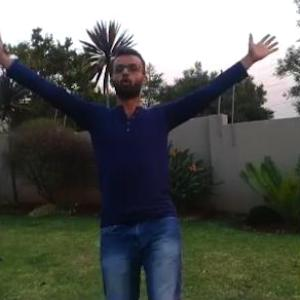takeoff: (1, 32, 292, 299)
